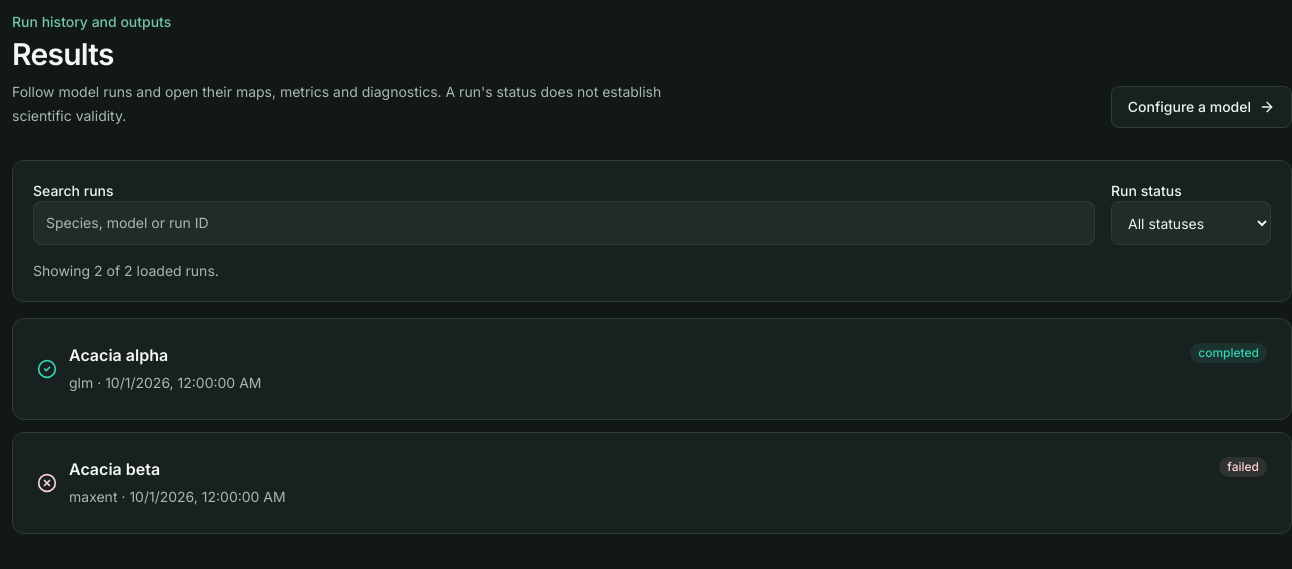
Test case: results run-history workbench › combines species/model/id search with status filtering and clear recovery
Type "ACACIA" into the search field labelled "Search runs". click: (564, 223)
box: [33,201,1095,245]
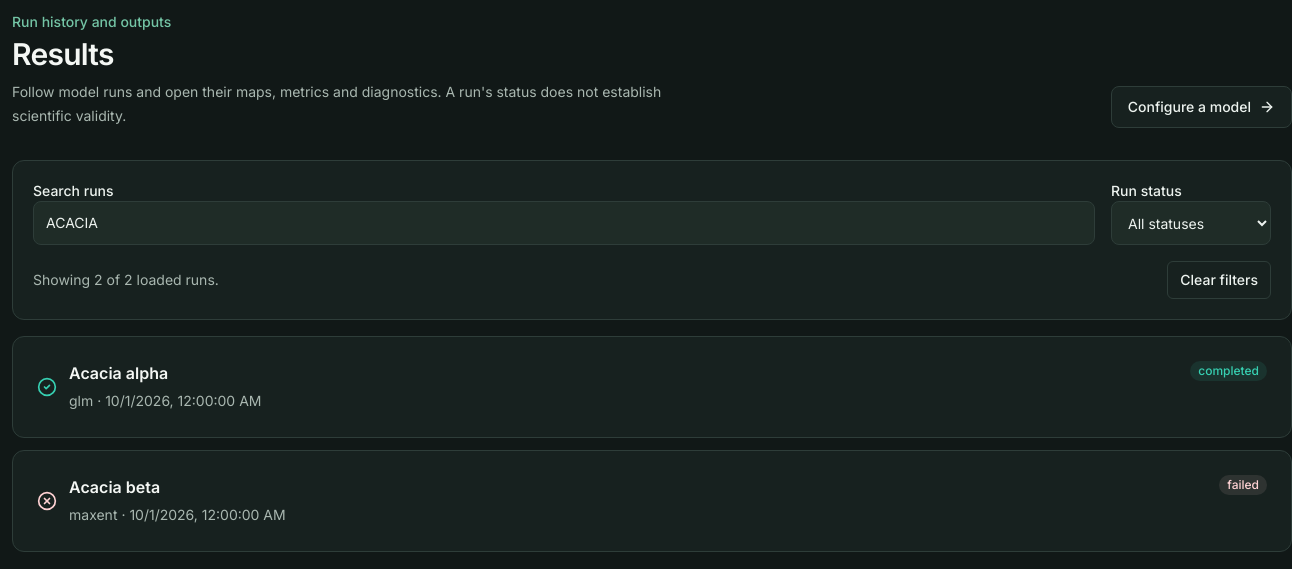
Select "failed" in the dropdown labelled "Run status". click: (1191, 223)
box: [1111,201,1271,245]
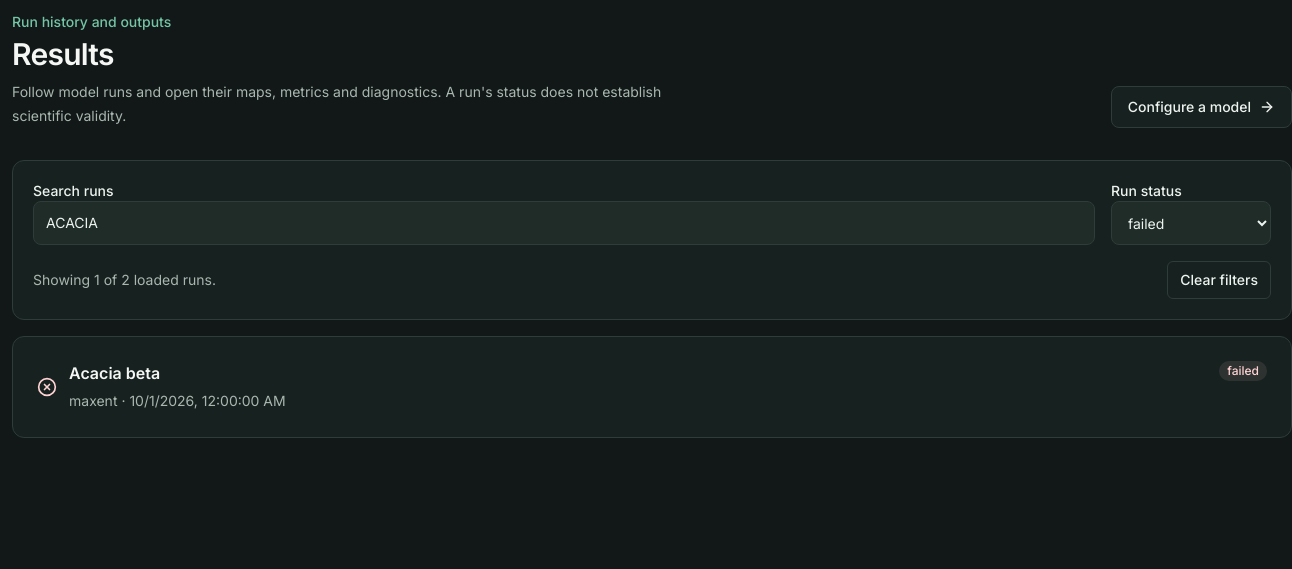
Expected: the link "Acacia beta" is shown, [69,363,160,383]
Now the message shows "Showing 1 of 2 loaded runs", box [33,270,216,290]
Now the link "Acacia alpha" is gone
Replace the text in the search field labelled "Search runs" with "missing". click: (564, 223)
box: [33,201,1095,245]
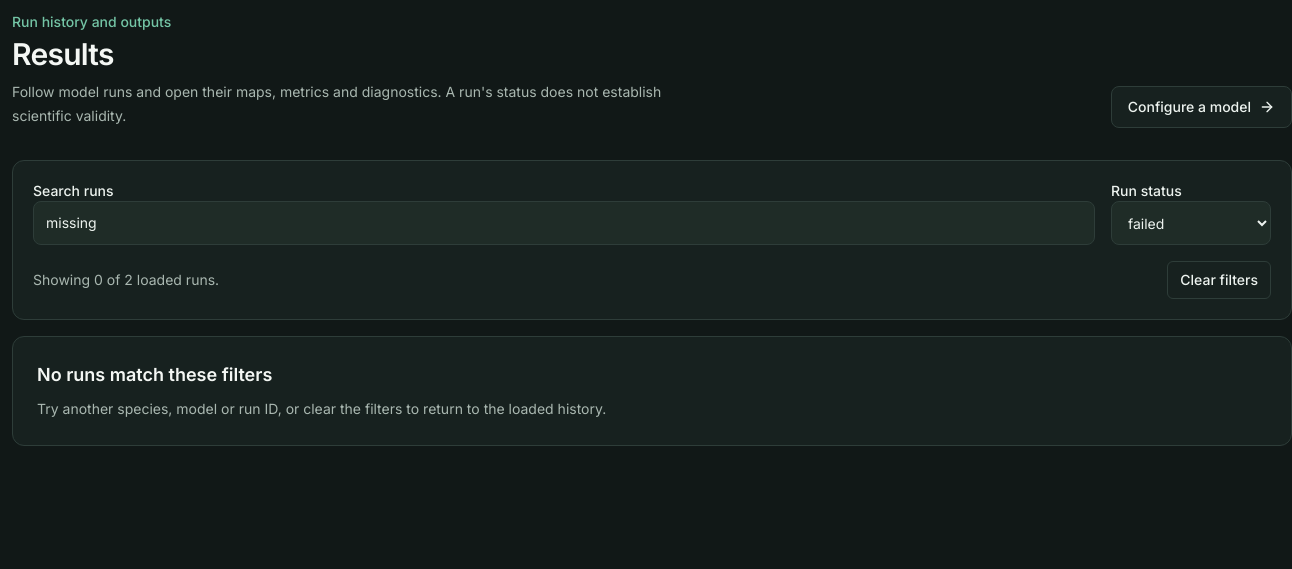
Now the heading "No runs match these filters" is shown, box [37,364,272,385]
Click the button "Clear filters". click: (1219, 280)
box: [1167,261,1271,299]
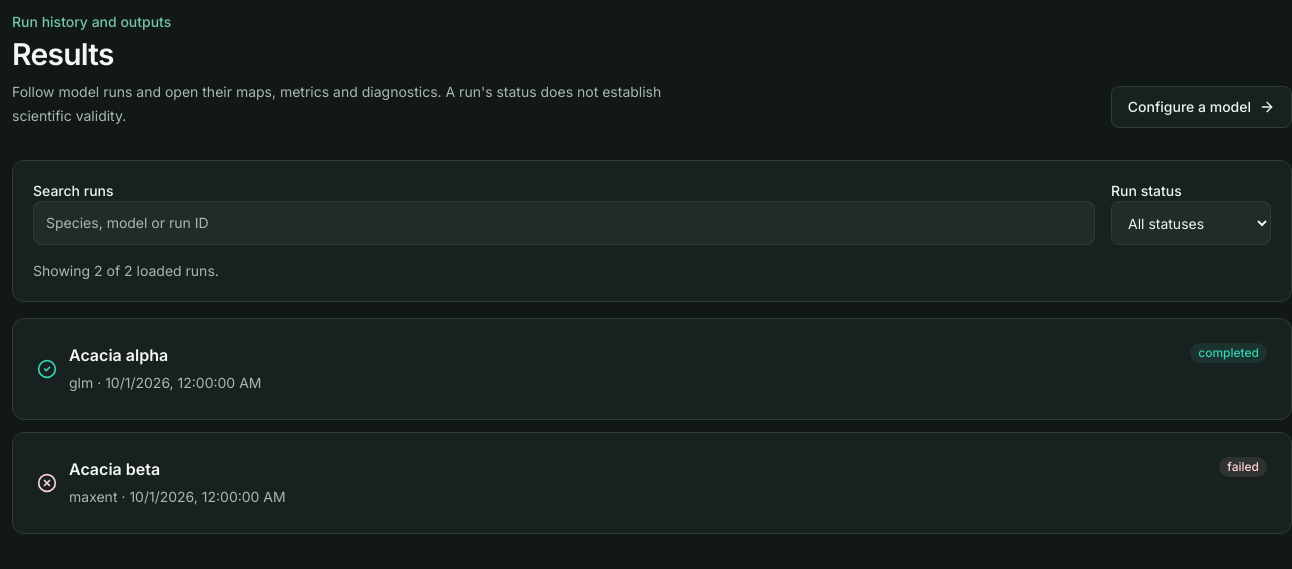
Now the search field labelled "Search runs" is empty
Now the message shows "Showing 2 of 2 loaded runs", box [33,261,219,281]
Type "maxent" into the search field labelled "Search runs". click: (564, 223)
box: [33,201,1095,245]
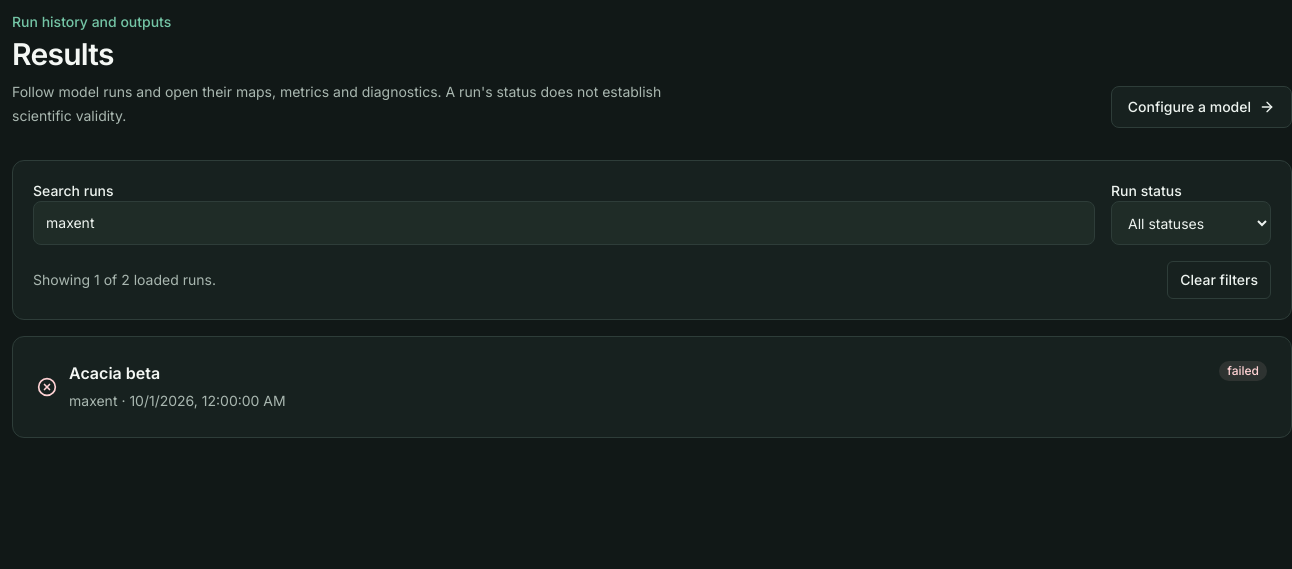
Now the link "Acacia beta" is shown, box [69,363,160,383]
Now the link "Acacia alpha" is gone
Replace the text in the search field labelled "Search runs" with "alpha". click: (564, 223)
box: [33,201,1095,245]
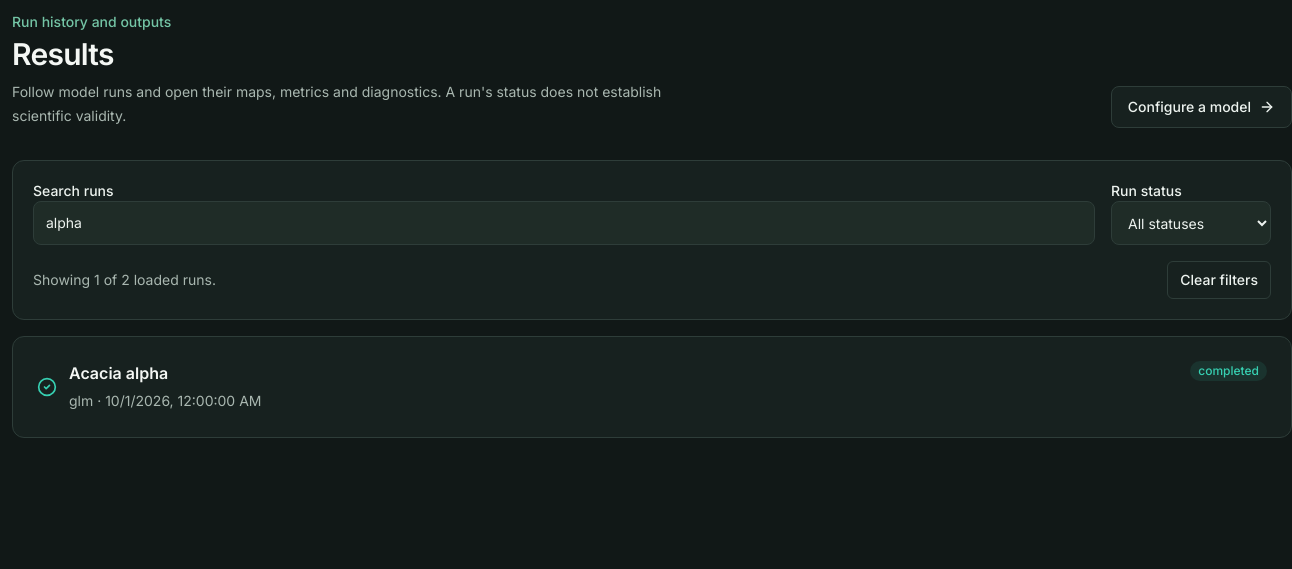
Now the link "Acacia alpha" is shown, box [69,363,168,383]
